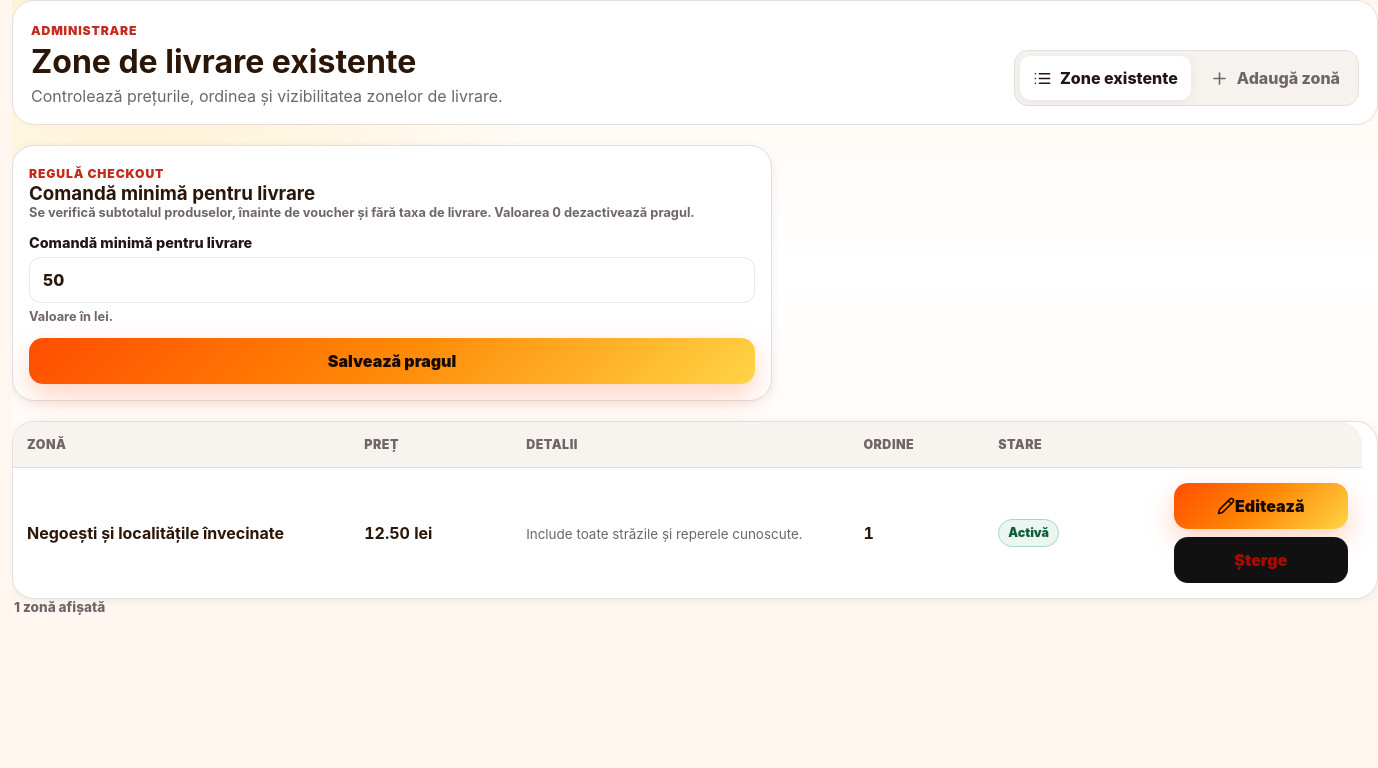
Test: DeliveryZonesPanel › keeps zone creation separate from the table
The width and height of the screenshot is (1378, 768).
Expected: the field labelled "Numele zonei" is not shown
Click the button "Adaugă zonă".
click(1275, 78)  # box [1197,56,1353,100]
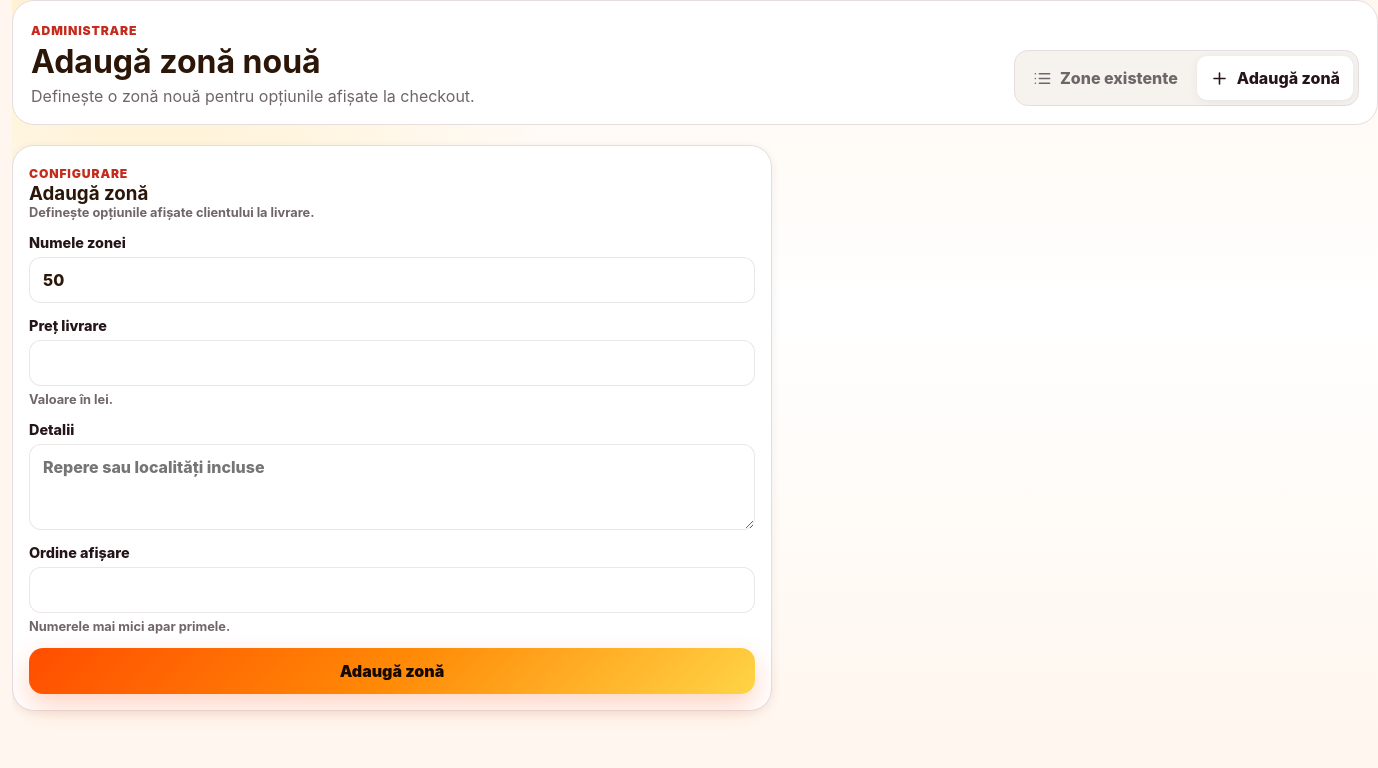
Expected: the field labelled "Numele zonei" is shown, [29,257,755,303]
Result: the heading "Adaugă zonă" is shown at [29,182,148,205]
Result: the table is gone
